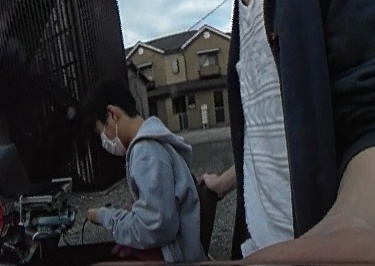person: (68, 76, 199, 266)
